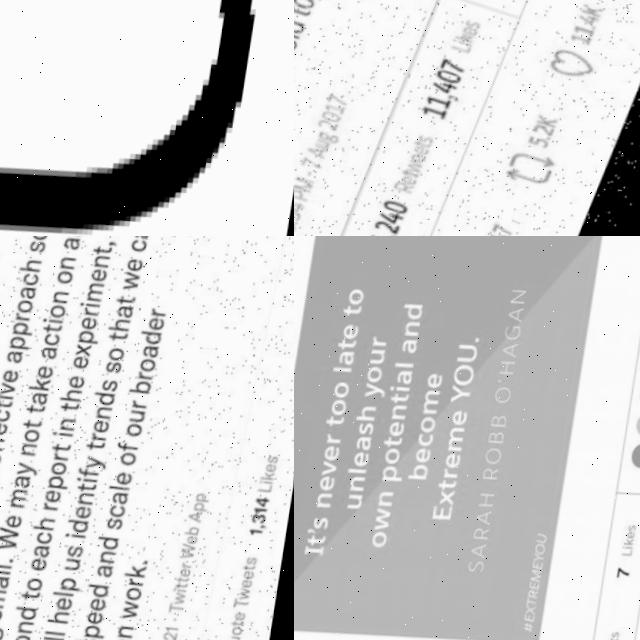0: (384, 200, 417, 223), (436, 70, 467, 93), (322, 112, 347, 129)
1: (424, 96, 459, 118), (420, 105, 452, 127), (570, 28, 599, 48), (325, 104, 351, 121), (568, 38, 594, 55), (254, 512, 272, 523), (251, 534, 266, 543), (168, 631, 184, 639)
2: (376, 220, 407, 236), (534, 128, 560, 145), (319, 120, 344, 137), (165, 635, 182, 640)
3: (253, 518, 271, 532)
4: (430, 81, 463, 103), (380, 211, 411, 233), (576, 16, 604, 35), (294, 200, 312, 218), (256, 501, 273, 515)
5: (529, 139, 555, 156), (294, 209, 308, 226)
6: (294, 220, 304, 236)
7: (439, 61, 472, 83), (303, 159, 329, 176), (328, 96, 354, 113), (494, 226, 520, 236), (620, 573, 633, 585)
U: (0, 0, 290, 236)
